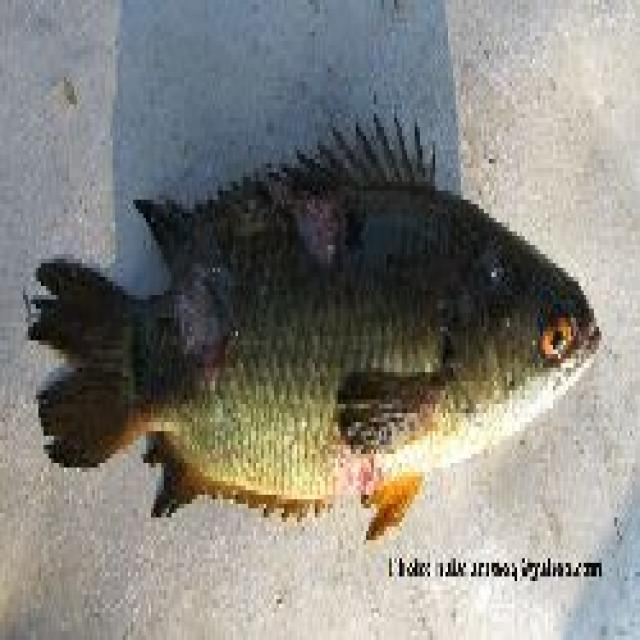Climbing-Perch: (6, 85, 606, 568)
